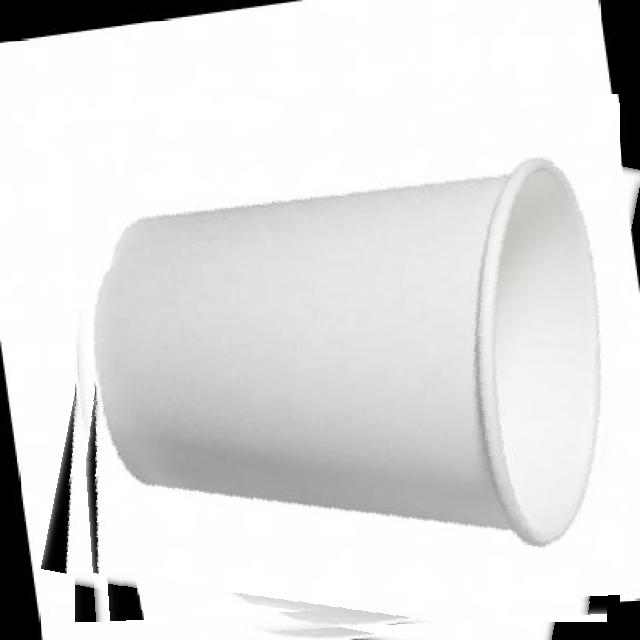non-biodegradable: (61, 94, 620, 640)
